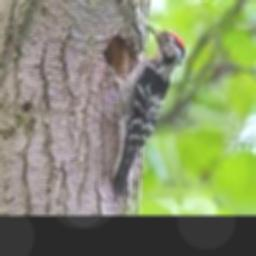Woodpecker: (104, 24, 185, 200)
